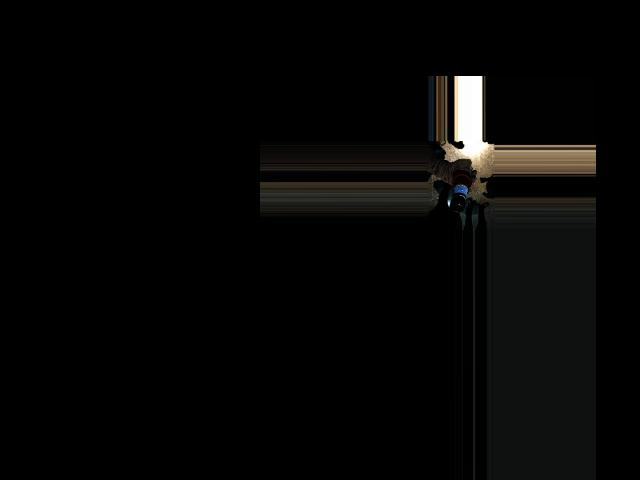beer: (451, 162, 473, 212)
